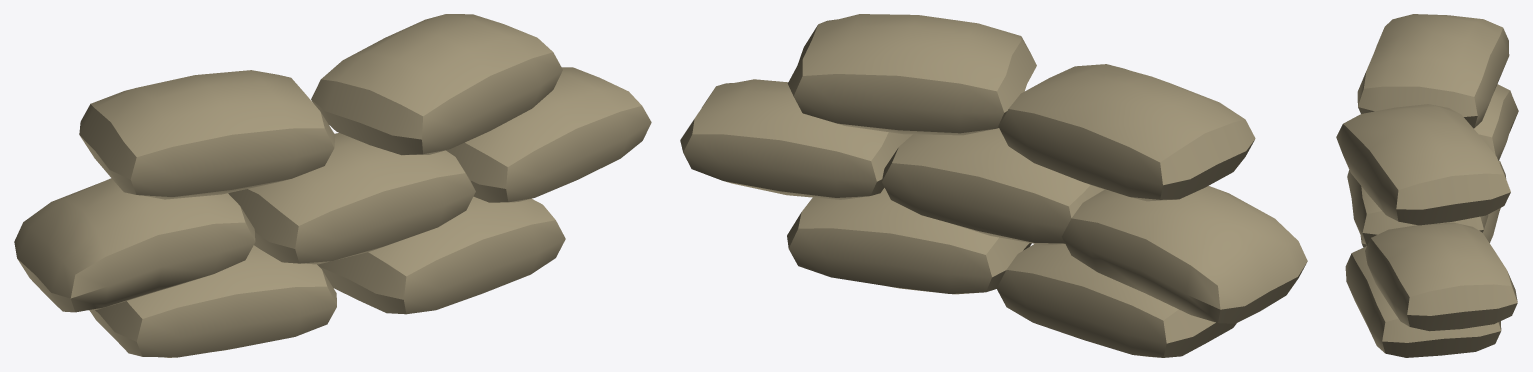
File: SackTrench_Small.fbx
3 renders of one model, left to right at view 1: azimuth 30°, elevation 25°; view 2: azimuth 150°, elevation 25°; view 3: azimuth 270°, elevation 25°, orthographic. The views are drawn at different scales.
Parts seen in each view (by area): view 1: SackTrench_Small; view 2: SackTrench_Small; view 3: SackTrench_Small.
Boxes of the visible parts, left/top/right/bottom form: SackTrench_Small: left=14, top=14, right=651, bottom=357; SackTrench_Small: left=680, top=14, right=1307, bottom=357; SackTrench_Small: left=1336, top=14, right=1518, bottom=357.
Bounding box in the file's own units: 229 × 92.81 × 73.01.
